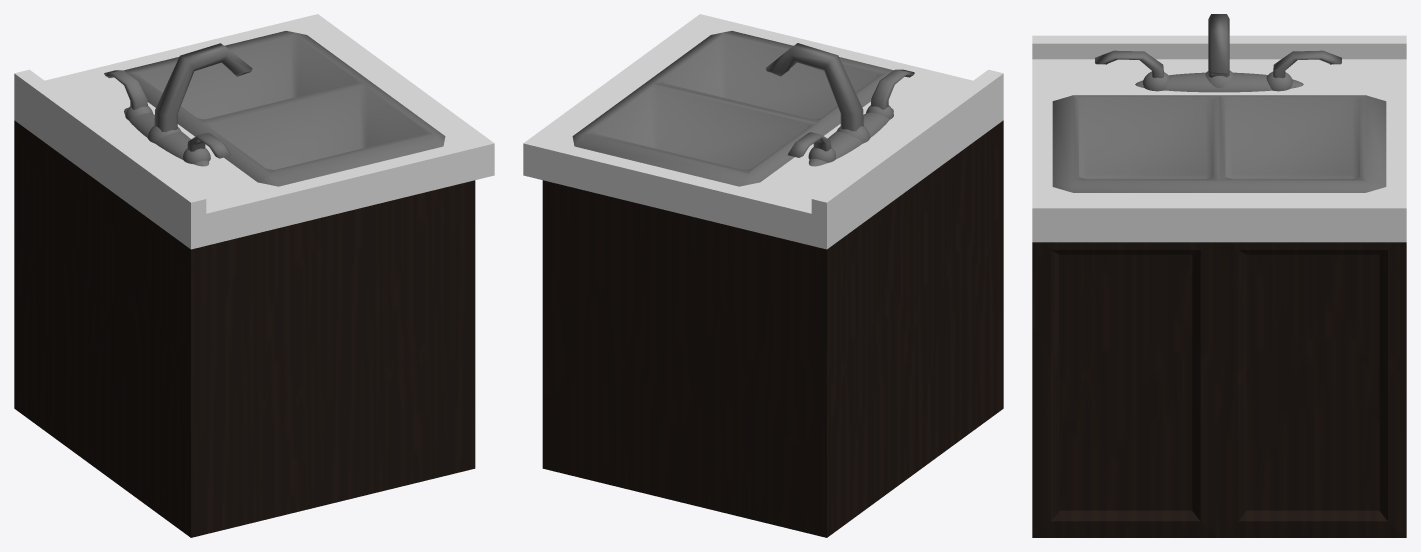
The model's file is Sink.fbx.
The picture shows the model from 3 angles, left to right: view 1: azimuth 30°, elevation 25°; view 2: azimuth 150°, elevation 25°; view 3: azimuth 270°, elevation 25°; orthographic projection. The views are drawn at different scales.
Parts seen in each view (by area): view 1: Sink, Basin.001, Head, Sphere.003, Handle, Handle.001; view 2: Sink, Basin.001, Head, Sphere.003, Handle.001, Handle; view 3: Sink, Basin.001, Sphere.003, Head, Handle, Handle.001.
Part boxes in pixels (<box>): Sink: <box>14,14,494,537</box>; Basin.001: <box>124,31,445,186</box>; Head: <box>154,43,252,132</box>; Sphere.003: <box>124,107,209,166</box>; Handle: <box>104,70,147,109</box>; Handle.001: <box>187,133,231,158</box>; Sink: <box>523,14,1003,537</box>; Basin.001: <box>572,31,893,186</box>; Head: <box>765,43,863,131</box>; Sphere.003: <box>808,108,893,166</box>; Handle.001: <box>871,69,914,109</box>; Handle: <box>788,132,831,157</box>; Sink: <box>1032,35,1406,537</box>; Basin.001: <box>1052,95,1386,192</box>; Sphere.003: <box>1135,72,1303,92</box>; Head: <box>1208,14,1229,77</box>; Handle: <box>1273,50,1341,78</box>; Handle.001: <box>1095,50,1163,78</box>.
Bounding box in the file's own units: 198 × 248 × 200.
7 materials, 1 textured.
